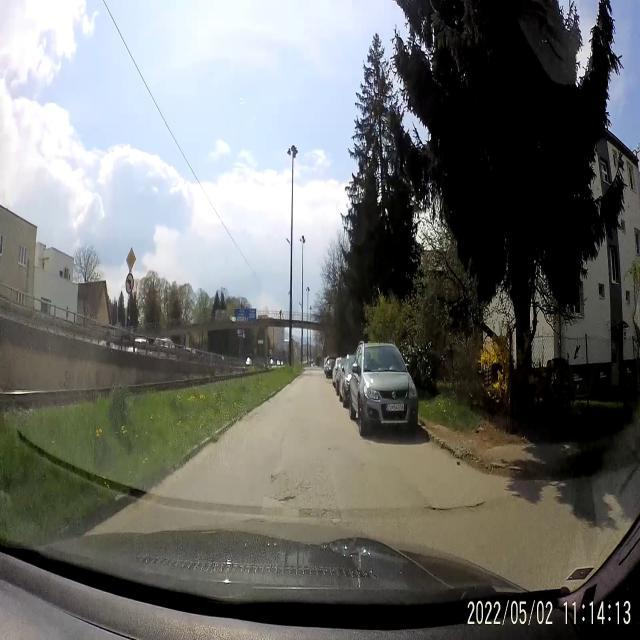Pothole: (424, 498, 489, 516), (272, 471, 298, 505)
